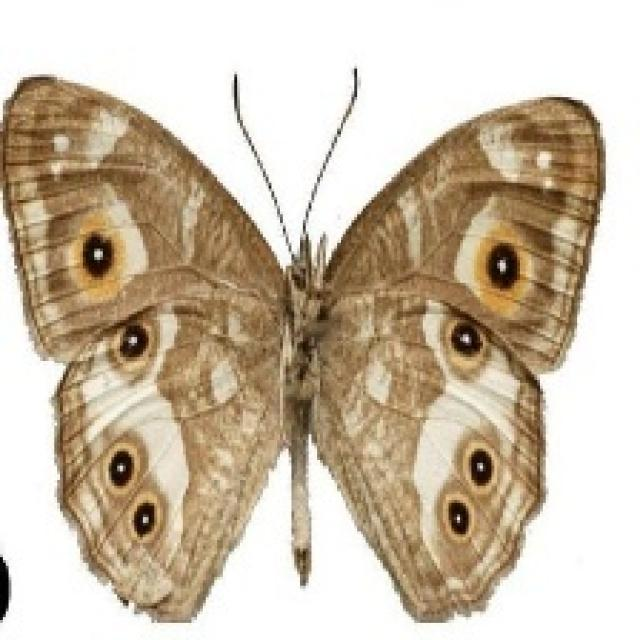butterfly: (0, 63, 606, 623)
